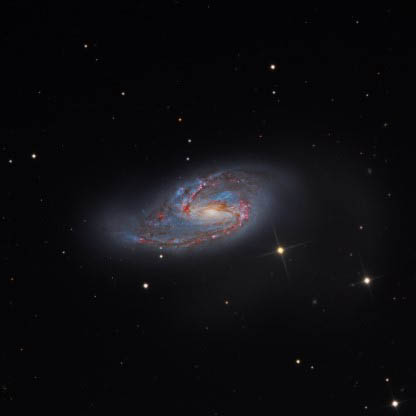Messier 66: (100, 167, 312, 269)
